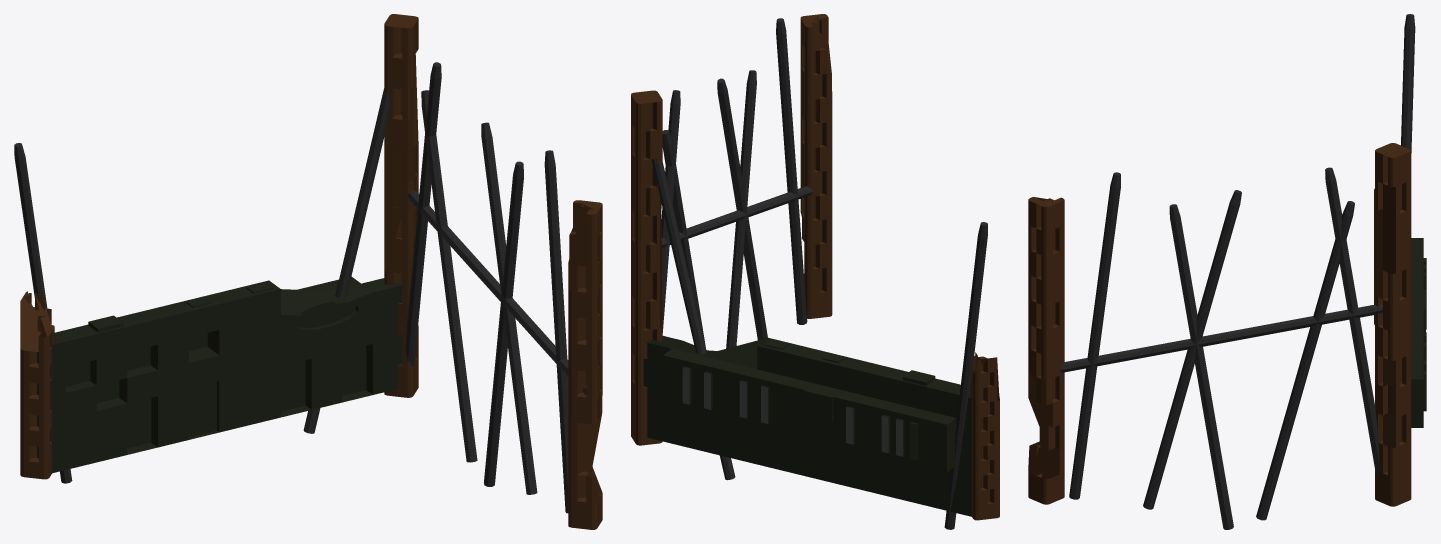
The model's file is Gate1.fbx.
The picture shows the model from 3 angles, left to right: view 1: azimuth 30°, elevation 25°; view 2: azimuth 150°, elevation 25°; view 3: azimuth 270°, elevation 25°; orthographic projection. The views are drawn at different scales.
Parts seen in each view (by area): view 1: Cube.003, Cube, Cube.002, Cube.001, Cylinder.003, Cylinder.004, Cylinder.001, Cylinder, Cylinder.002, Cylinder.006, Cylinder.005, Cylinder.007; view 2: Cube.003, Cube.002, Cube, Cube.001, Cylinder, Cylinder.007, Cylinder.004, Cylinder.001, Cylinder.006, Cylinder.005, Cylinder.002, Cylinder.003; view 3: Cube.002, Cube, Cylinder, Cylinder.001, Cylinder.003, Cylinder.004, Cylinder.005, Cylinder.002, Cube.003, Cylinder.007.
Part boxes in pixels (x1=…): Cube.003: x1=37, y1=276, x2=402, y2=473; Cube: x1=568, y1=200, x2=602, y2=529; Cube.002: x1=384, y1=14, x2=418, y2=397; Cube.001: x1=20, y1=291, x2=54, y2=479; Cylinder.003: x1=421, y1=90, x2=477, y2=462; Cylinder.004: x1=481, y1=122, x2=537, y2=494; Cylinder.001: x1=484, y1=161, x2=523, y2=486; Cylinder: x1=544, y1=150, x2=568, y2=513; Cylinder.002: x1=405, y1=62, x2=441, y2=370; Cylinder.006: x1=303, y1=88, x2=395, y2=433; Cylinder.005: x1=407, y1=190, x2=586, y2=395; Cylinder.007: x1=14, y1=143, x2=72, y2=483; Cube.003: x1=643, y1=336, x2=981, y2=516; Cube.002: x1=631, y1=90, x2=662, y2=445; Cube: x1=800, y1=14, x2=832, y2=318; Cube.001: x1=970, y1=352, x2=999, y2=520; Cylinder: x1=776, y1=18, x2=807, y2=324; Cylinder.007: x1=944, y1=222, x2=987, y2=529; Cylinder.004: x1=717, y1=78, x2=767, y2=340; Cylinder.001: x1=726, y1=70, x2=756, y2=348; Cylinder.006: x1=652, y1=159, x2=735, y2=480; Cylinder.005: x1=661, y1=186, x2=812, y2=247; Cylinder.002: x1=661, y1=90, x2=680, y2=332; Cylinder.003: x1=662, y1=130, x2=706, y2=349; Cube.002: x1=1375, y1=143, x2=1411, y2=506; Cube: x1=1028, y1=197, x2=1064, y2=504; Cylinder: x1=1069, y1=172, x2=1120, y2=499; Cylinder.001: x1=1169, y1=204, x2=1233, y2=529; Cylinder.003: x1=1256, y1=201, x2=1354, y2=520; Cylinder.004: x1=1143, y1=190, x2=1241, y2=509; Cylinder.005: x1=1033, y1=304, x2=1382, y2=377; Cylinder.002: x1=1325, y1=167, x2=1380, y2=477; Cube.003: x1=1401, y1=238, x2=1426, y2=441; Cylinder.007: x1=1401, y1=14, x2=1415, y2=152.
Bounding box in the file's own units: 329 × 316 × 303.
